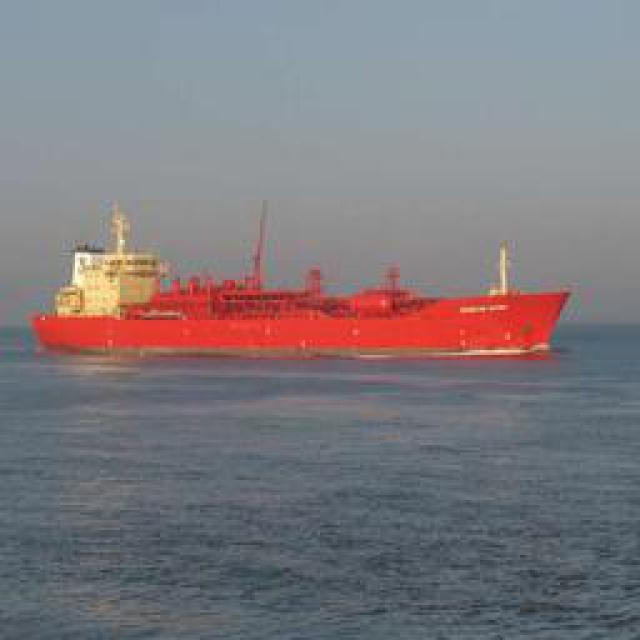Ship: (34, 215, 574, 360)
